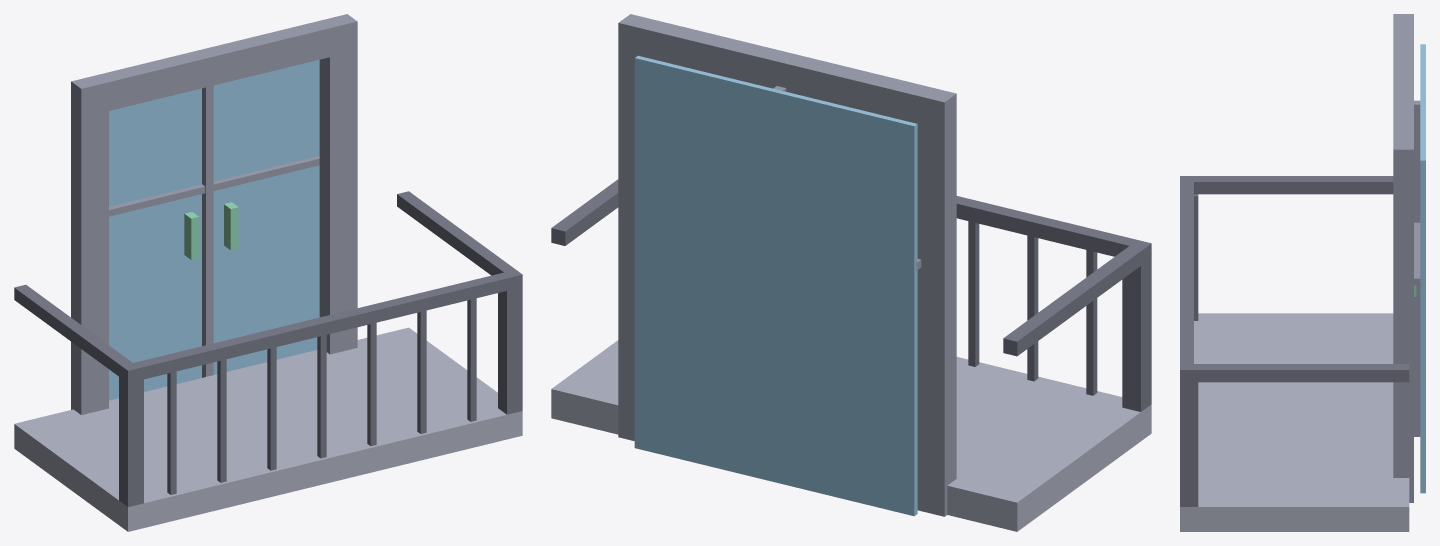
The model's file is balcony-door-classic.glb.
The picture shows the model from 3 angles, left to right: view 1: azimuth 30°, elevation 25°; view 2: azimuth 150°, elevation 25°; view 3: azimuth 270°, elevation 25°; orthographic projection. The views are drawn at different scales.
Parts seen in each view (by area): view 1: balcony-door-classic; view 2: balcony-door-classic; view 3: balcony-door-classic.
Boxes of the visible parts, x1,y1,x2,y2 form: balcony-door-classic: (14,14,522,531); balcony-door-classic: (551,14,1151,531); balcony-door-classic: (1180,14,1425,531).
Size of the model in its own units: 1 by 0.85 by 0.536.
1 material, 1 textured.
